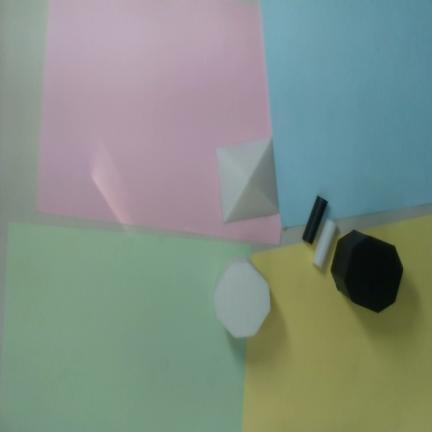Cilindro: (302, 195, 328, 245), (313, 219, 337, 268)
Piramide: (216, 137, 279, 224)
Prisma_hexagonal: (330, 229, 404, 314), (214, 257, 271, 338)
